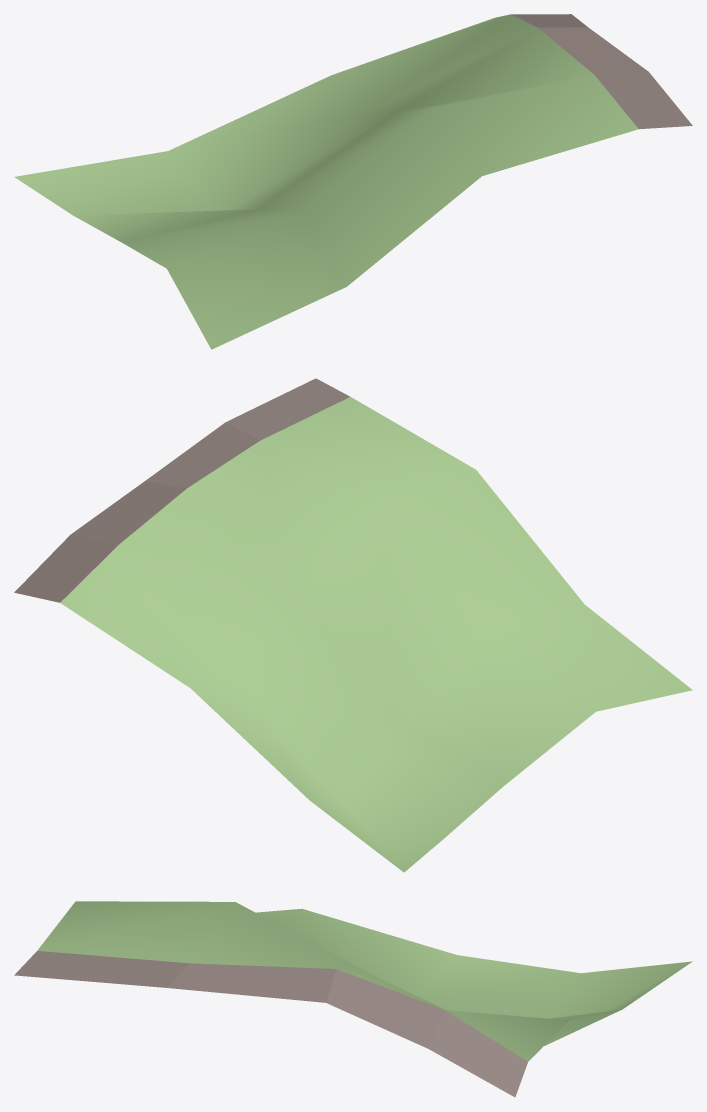
File: level_91.fbx
The picture shows the model from 3 angles, top to bottom: view 1: azimuth 30°, elevation 25°; view 2: azimuth 150°, elevation 25°; view 3: azimuth 270°, elevation 25°; orthographic projection. The views are drawn at different scales.
Visible parts, largest first — view 1: loc_091; view 2: loc_091; view 3: loc_091.
Boxes of the visible parts, x1,y1,x2,y2 form: loc_091: (14, 14, 692, 349); loc_091: (14, 378, 692, 872); loc_091: (14, 901, 692, 1097).
Size of the model in its own units: 20.84 by 7.62 by 21.26.
